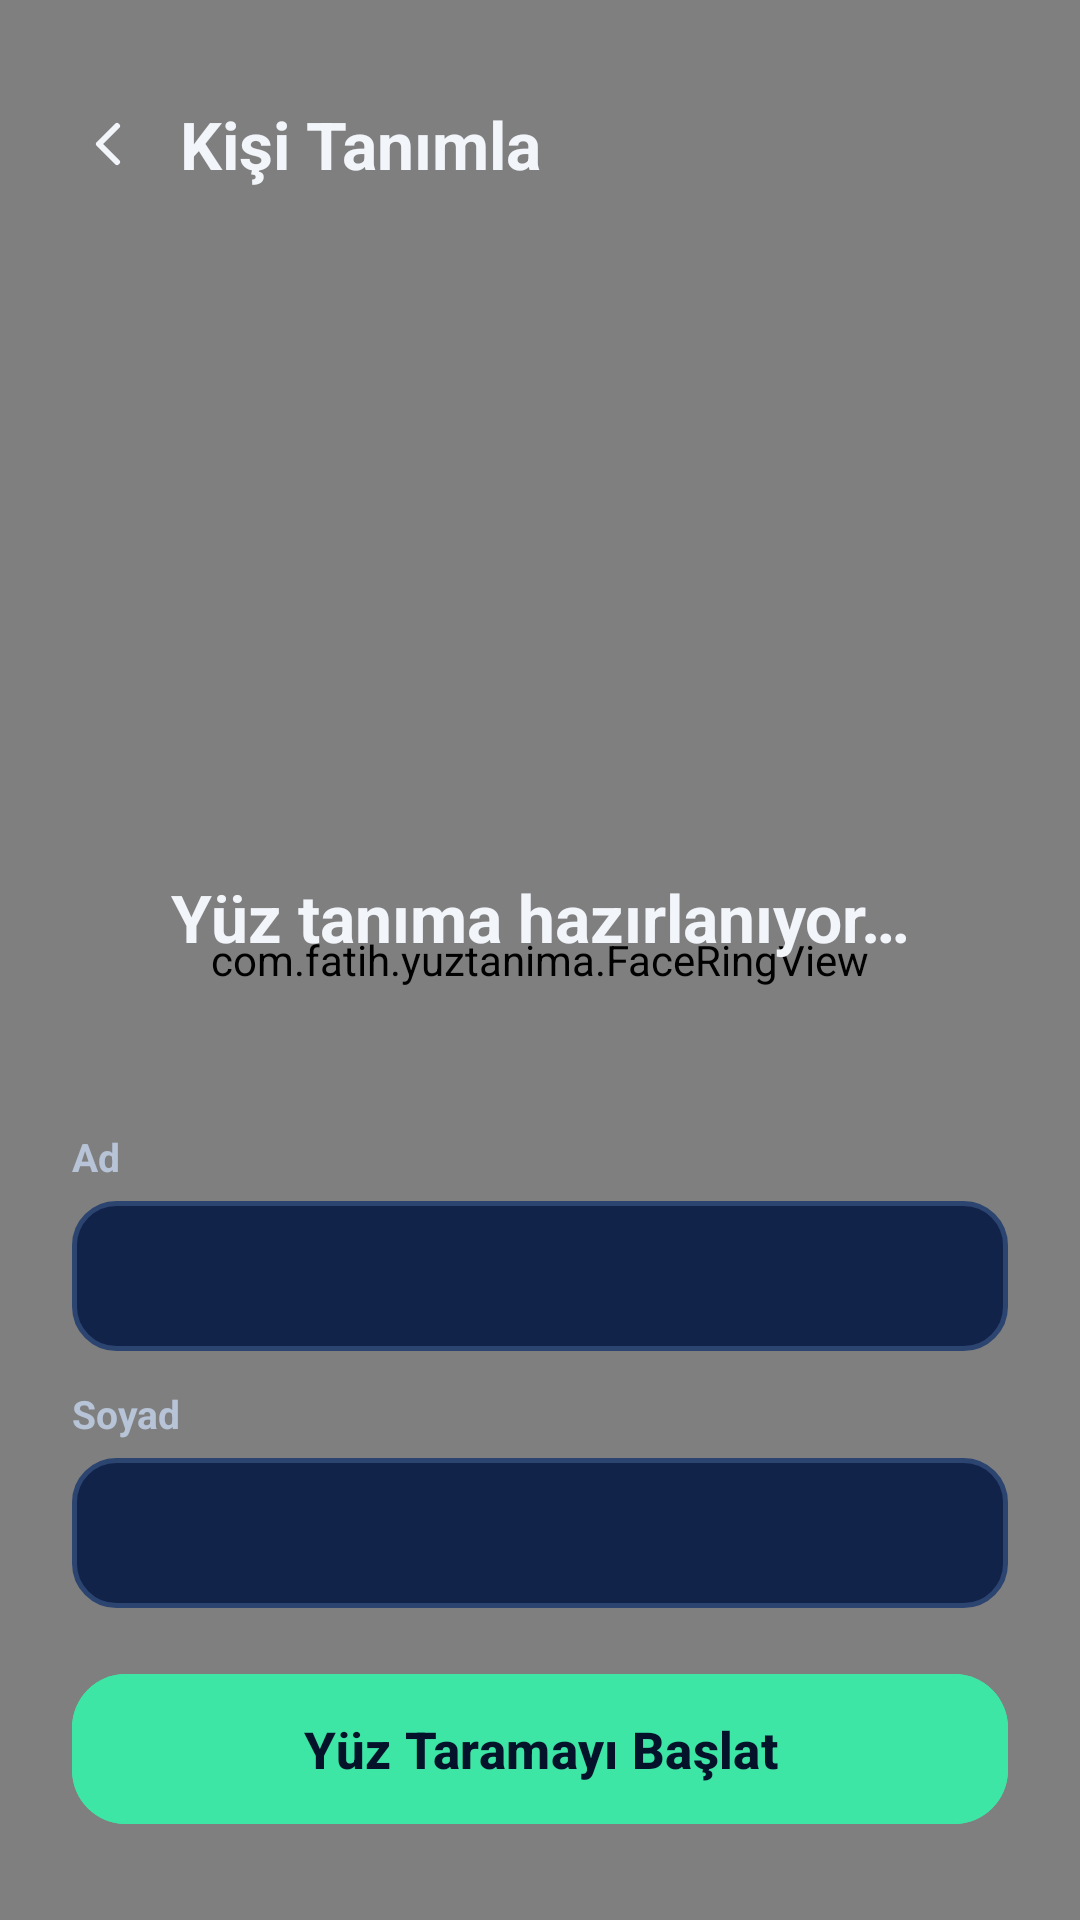

Screen size 1080px×1920px. Icon name, then its center in pixels as point (x, y):
Geri: point (108, 144)
